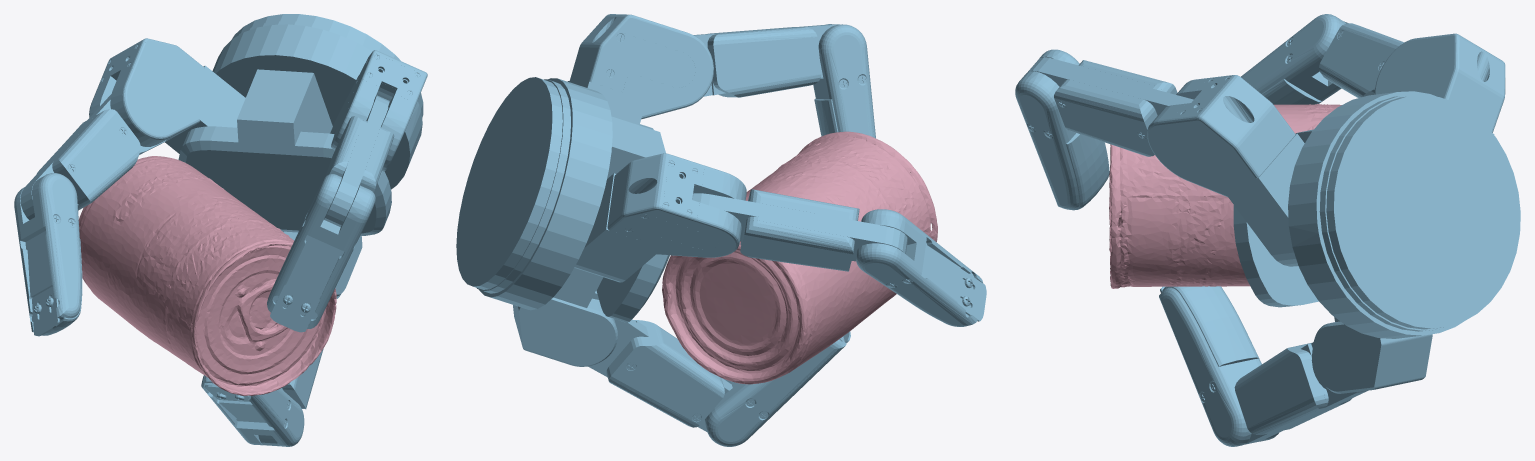
The picture shows the model from 3 angles, left to right: view 1: azimuth 30°, elevation 25°; view 2: azimuth 150°, elevation 25°; view 3: azimuth 270°, elevation 25°; orthographic projection. The views are drawn at different scales.
Visible parts, largest first — view 1: world; view 2: world; view 3: world.
Boxes of the visible parts, <box> form: world: <box>14,14,427,446</box>; world: <box>456,14,986,446</box>; world: <box>1015,14,1520,446</box>.
Size of the model in its own units: 0.2058 by 0.1689 by 0.1835.
